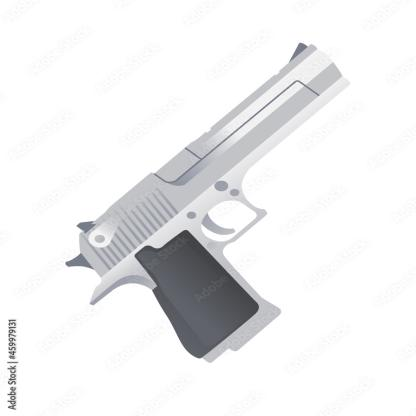handgun: (59, 38, 360, 376)
